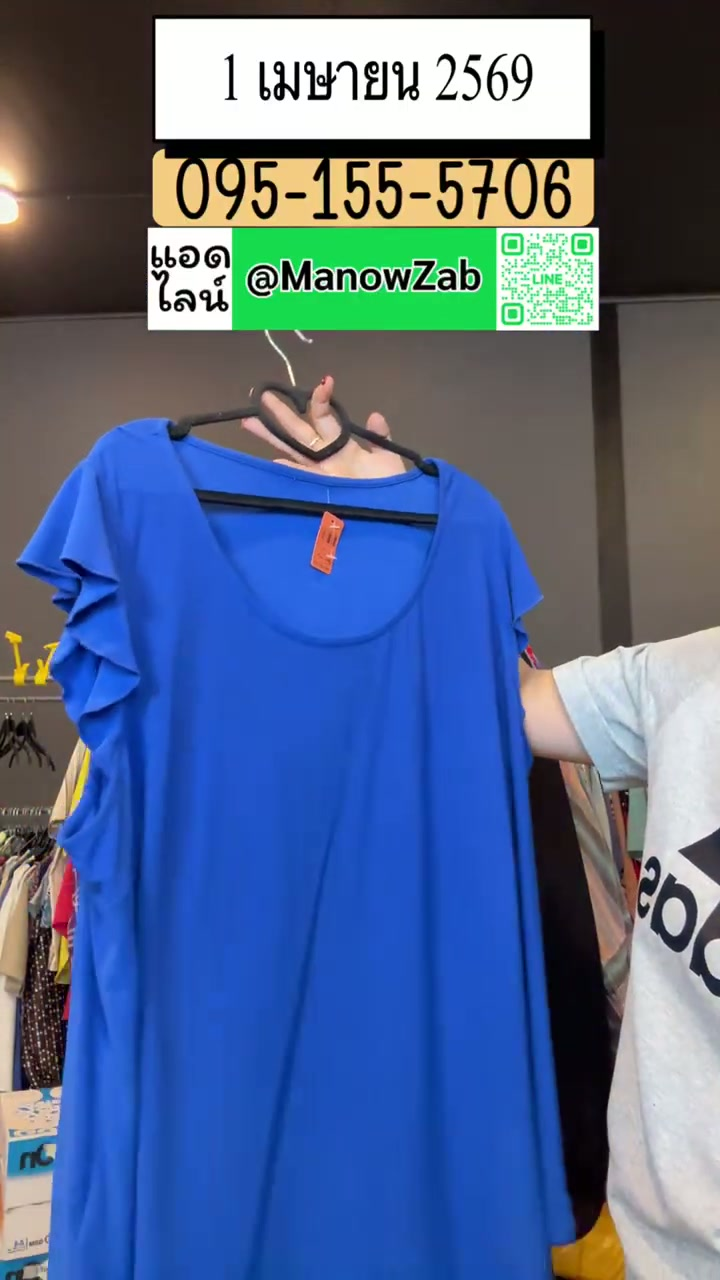display_shirt: (18, 418, 573, 1279)
